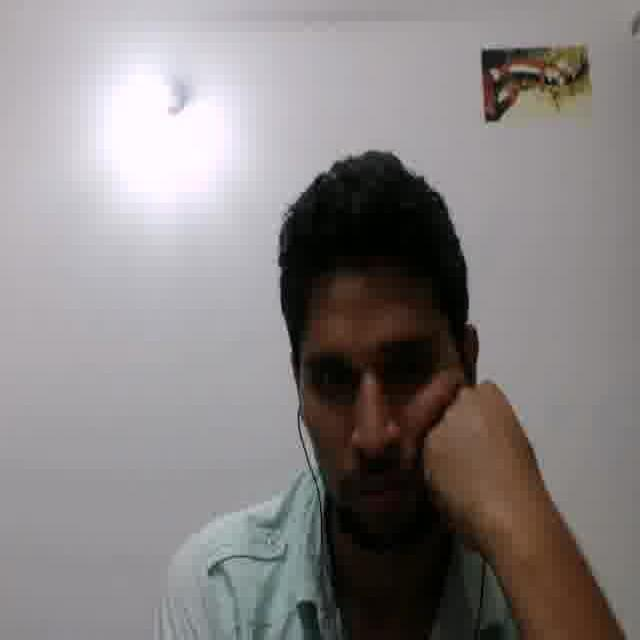Frustration: (294, 279, 447, 533)
